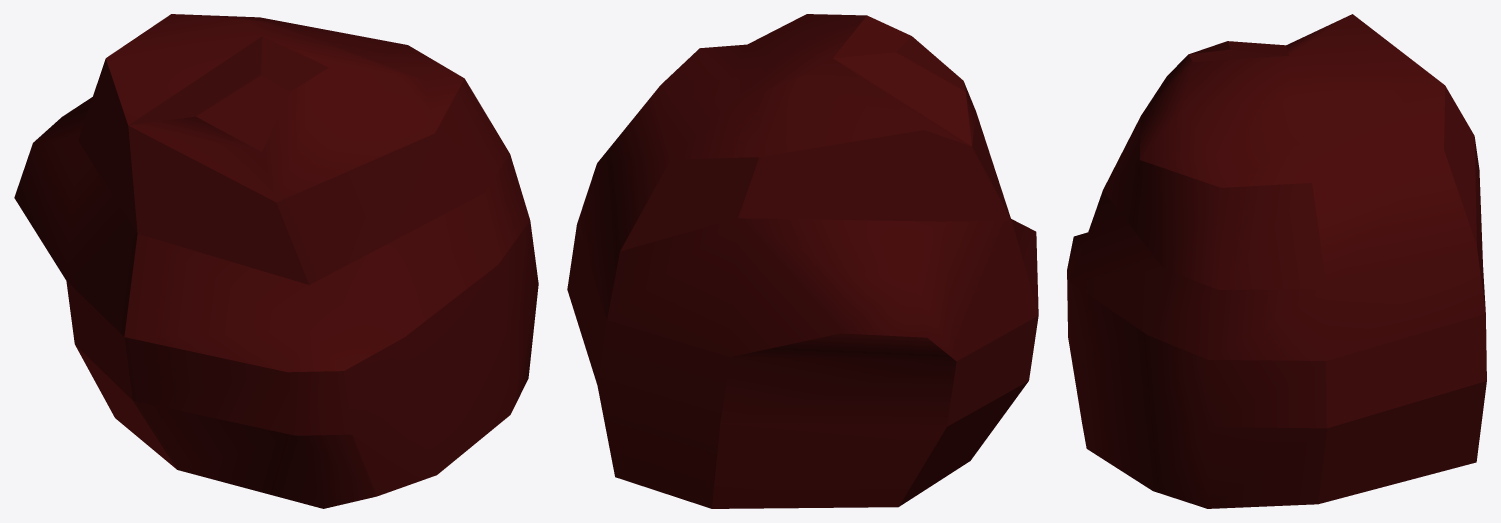
The model's file is BlockingMoundSmall.fbx.
3 views of the same model, side by side, from view 1: azimuth 30°, elevation 25°; view 2: azimuth 150°, elevation 25°; view 3: azimuth 270°, elevation 25° (orthographic). The views are drawn at different scales.
Parts seen in each view (by area): view 1: BlaokingMoundSmall; view 2: BlaokingMoundSmall; view 3: BlaokingMoundSmall.
Part boxes in pixels (x1,y1,x2,y2): BlaokingMoundSmall: (14, 14, 538, 508); BlaokingMoundSmall: (567, 14, 1038, 508); BlaokingMoundSmall: (1067, 14, 1486, 508).
Size of the model in its own units: 517 by 467 by 478.
